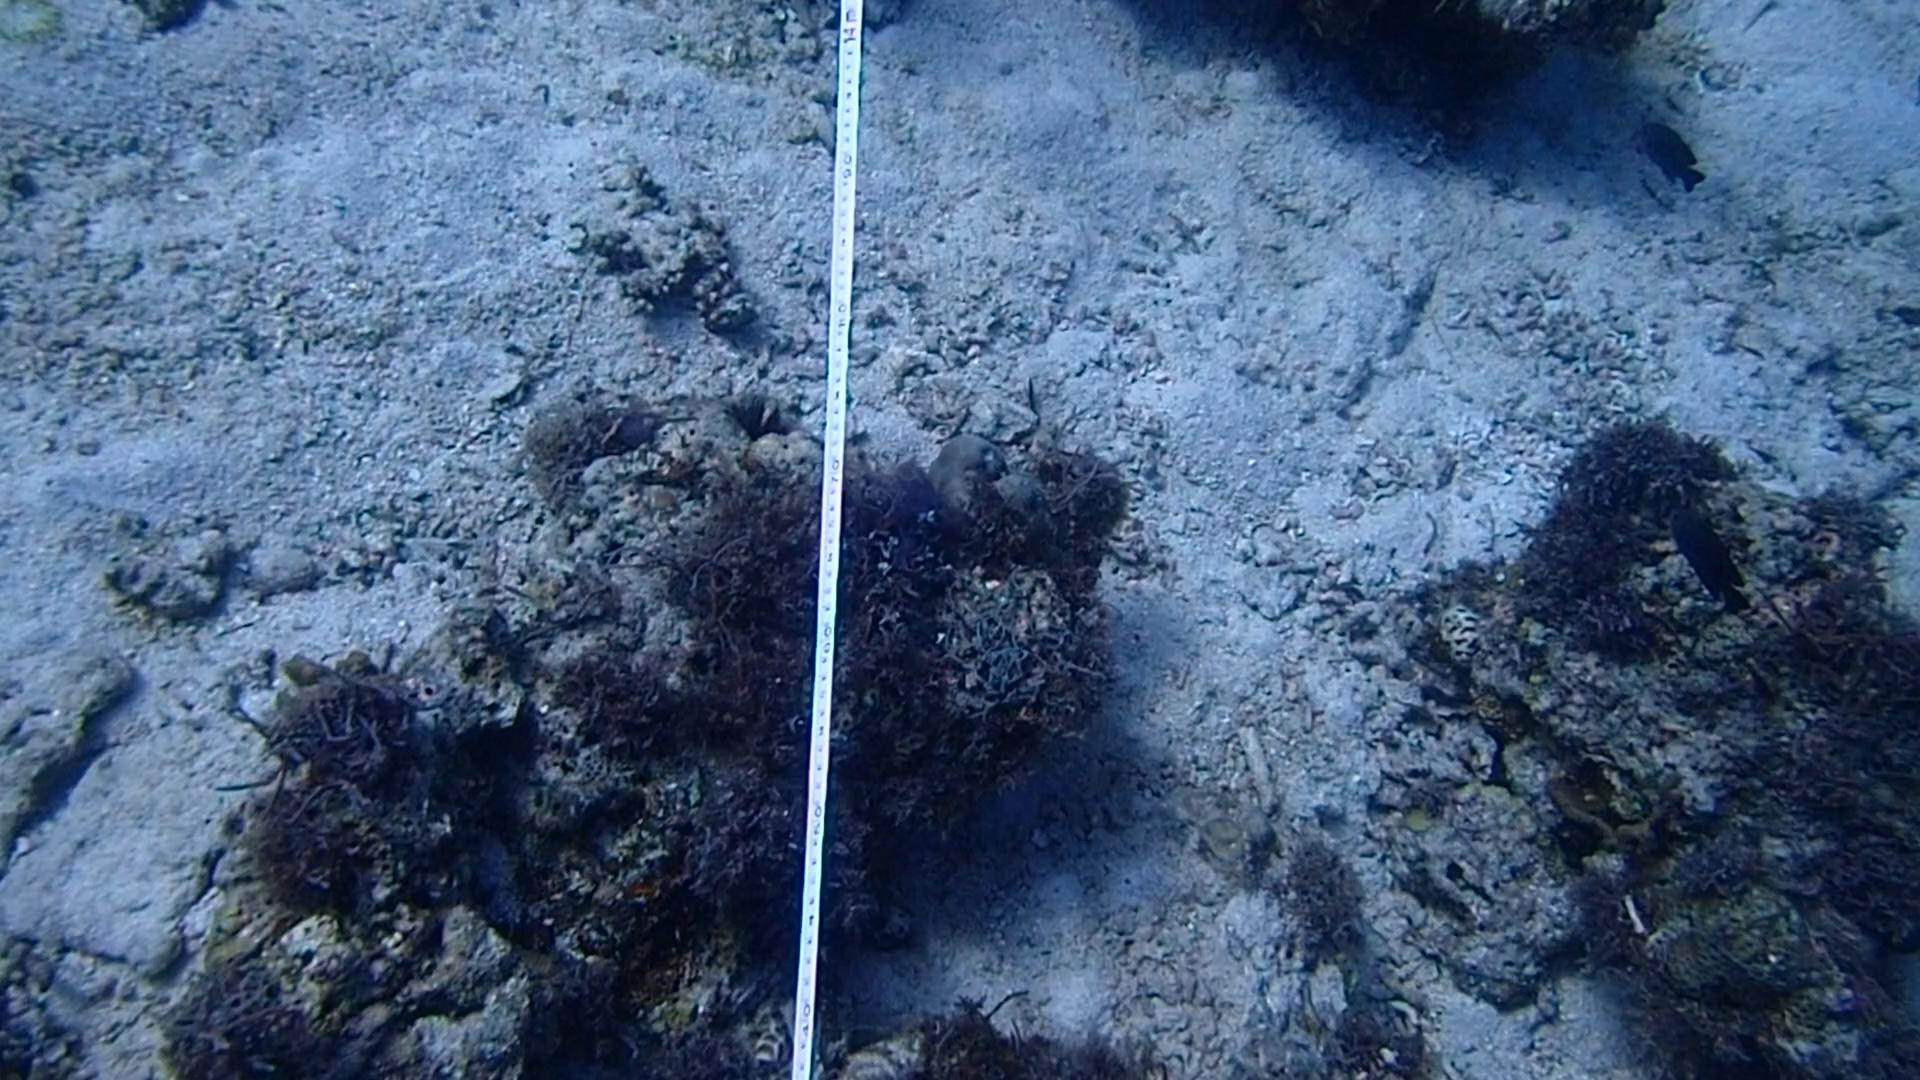Dark Fish: (1651, 487, 1754, 620), (1623, 105, 1709, 200)
